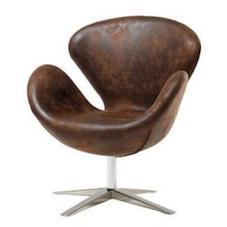chair: (4, 6, 208, 220)
